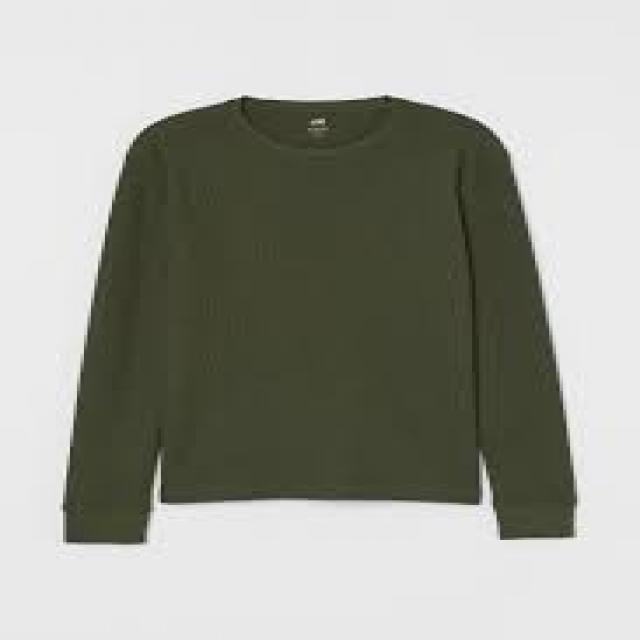plain: (57, 98, 580, 508)
